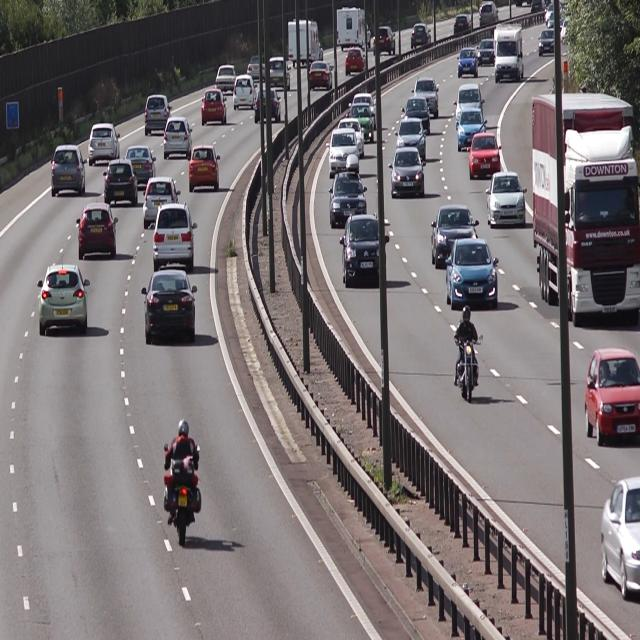Car: (532, 94, 640, 327), (586, 348, 640, 448), (140, 270, 200, 342), (34, 262, 92, 336), (341, 213, 390, 290), (448, 238, 498, 308), (429, 202, 480, 268), (150, 204, 198, 270), (76, 202, 120, 262), (333, 156, 369, 227), (388, 142, 428, 201), (488, 173, 528, 230), (492, 19, 526, 86), (186, 145, 222, 196), (142, 181, 183, 225), (326, 126, 361, 177), (102, 159, 139, 207), (52, 148, 88, 197), (469, 133, 504, 182), (395, 114, 428, 165), (90, 118, 124, 165), (470, 131, 502, 180), (457, 111, 489, 156), (128, 142, 158, 186), (143, 94, 173, 137), (164, 116, 192, 160), (233, 73, 259, 111), (201, 91, 228, 126), (458, 43, 480, 80)
